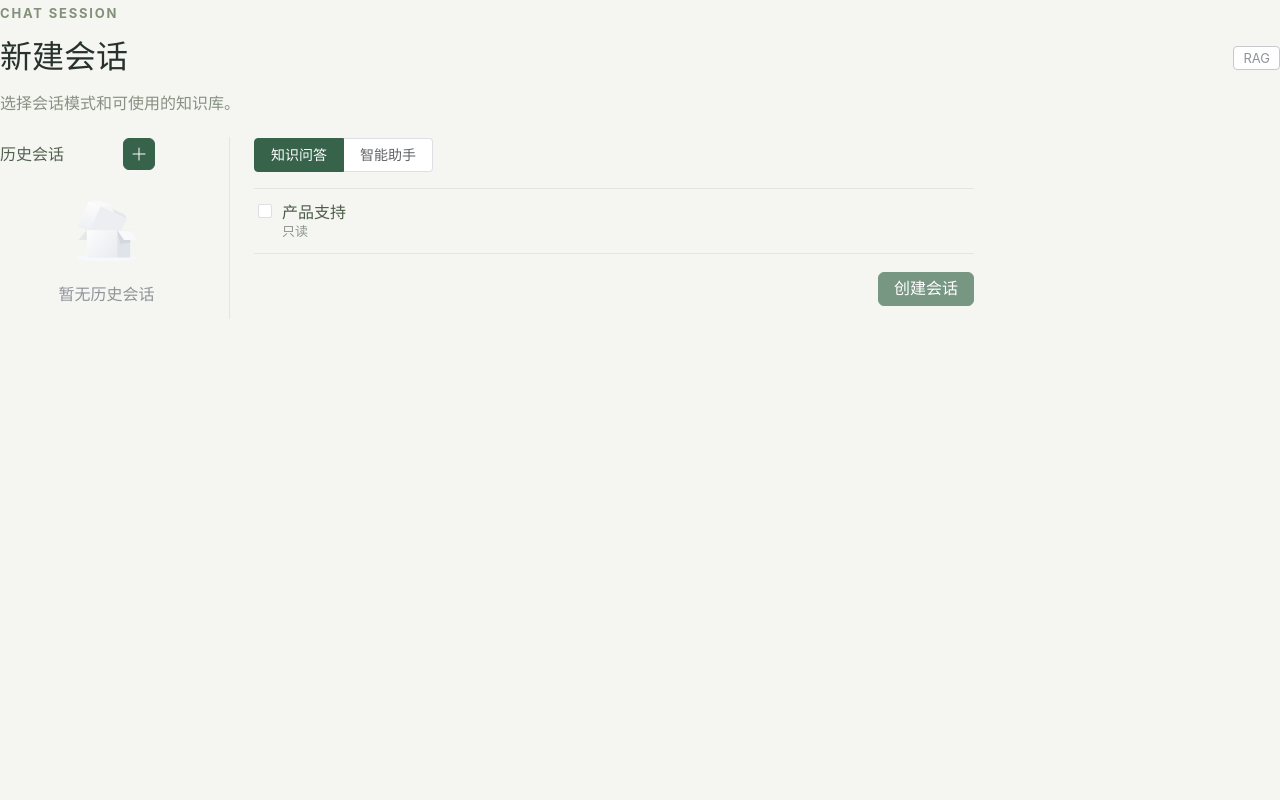
Test case: 会话创建页面 › 正文重复引用 [1][1] 时仅显示一个已登记来源入口，点击只请求该分块一次
This screenshot has width=1280, height=800.
Step 1. Click the checkbox labelled "产品支持 只读" → (314, 212), box 254,189 -> 974,254
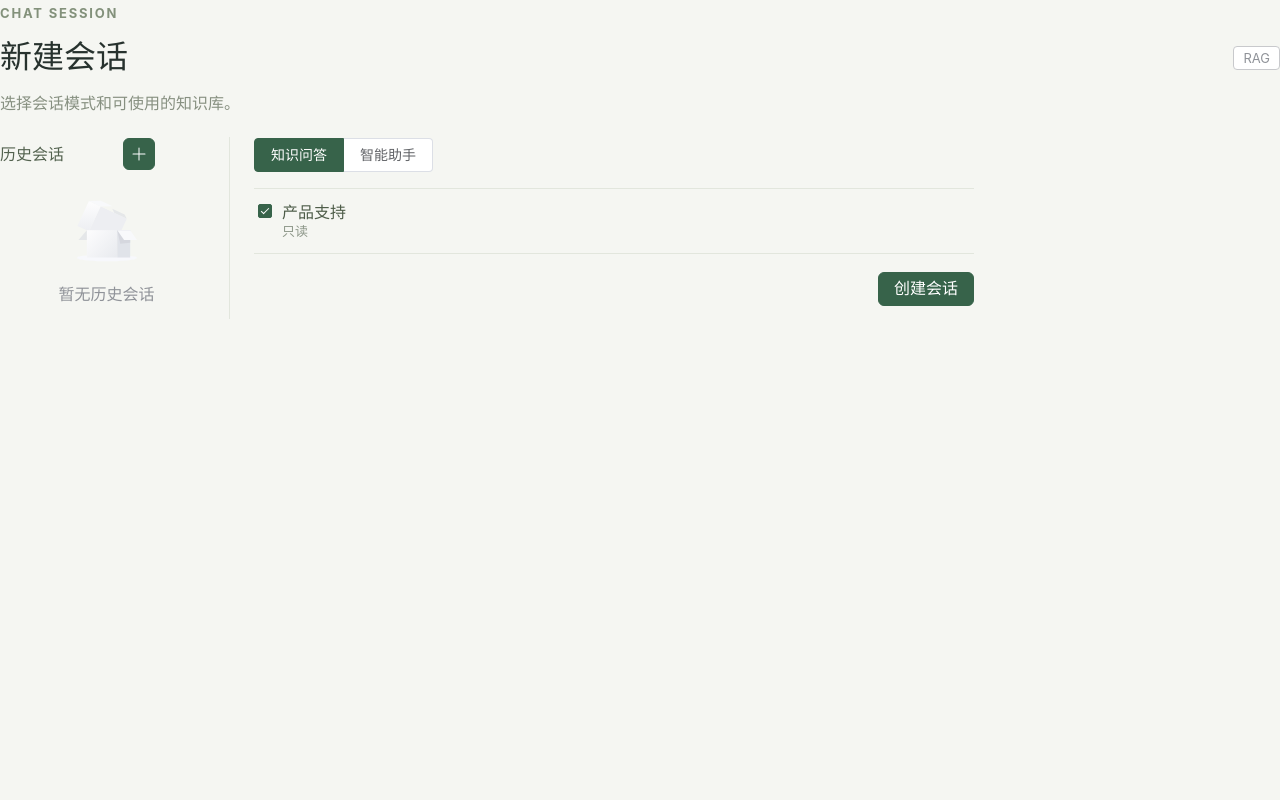
Step 2. Submit the form with class "chat-session-form", box 254,137 -> 974,306
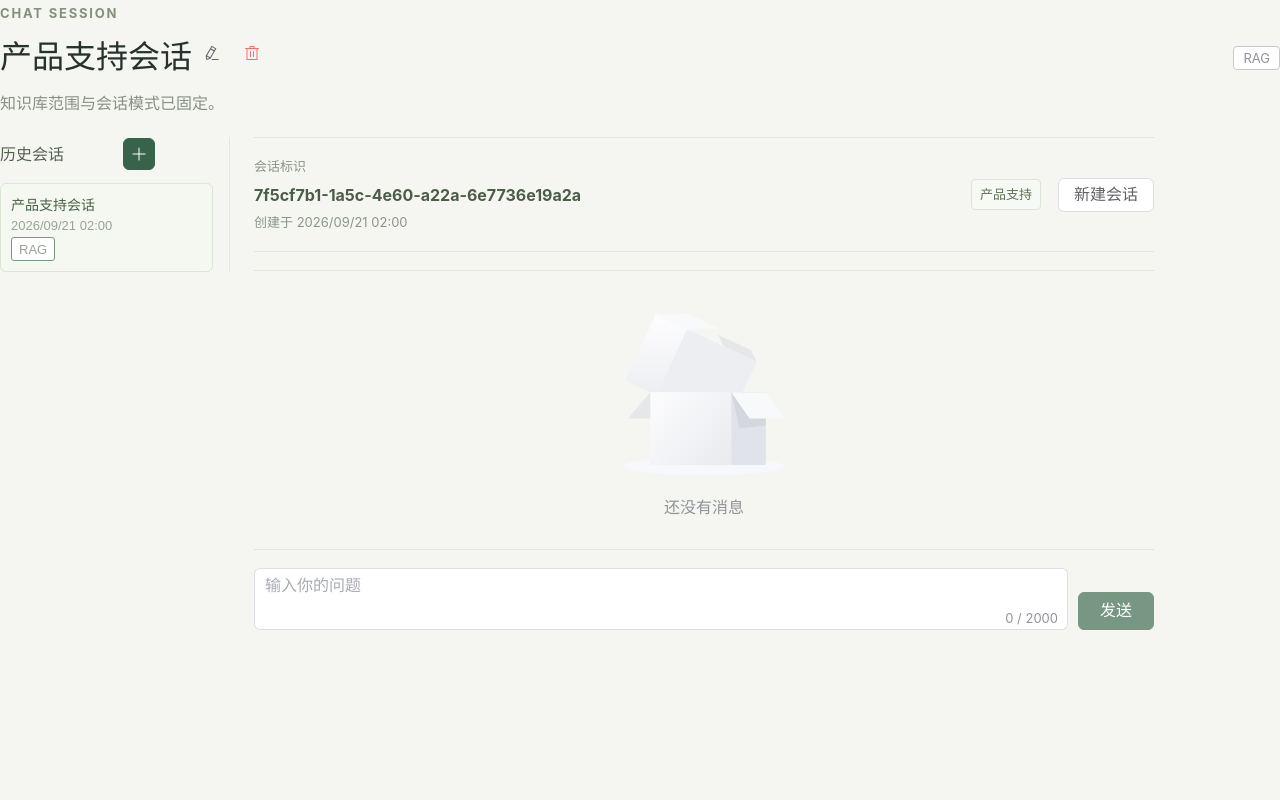
Step 3. Type "支付状态如何排查？" into the text box with placeholder "输入你的问题" → (661, 599), box 254,568 -> 1068,630
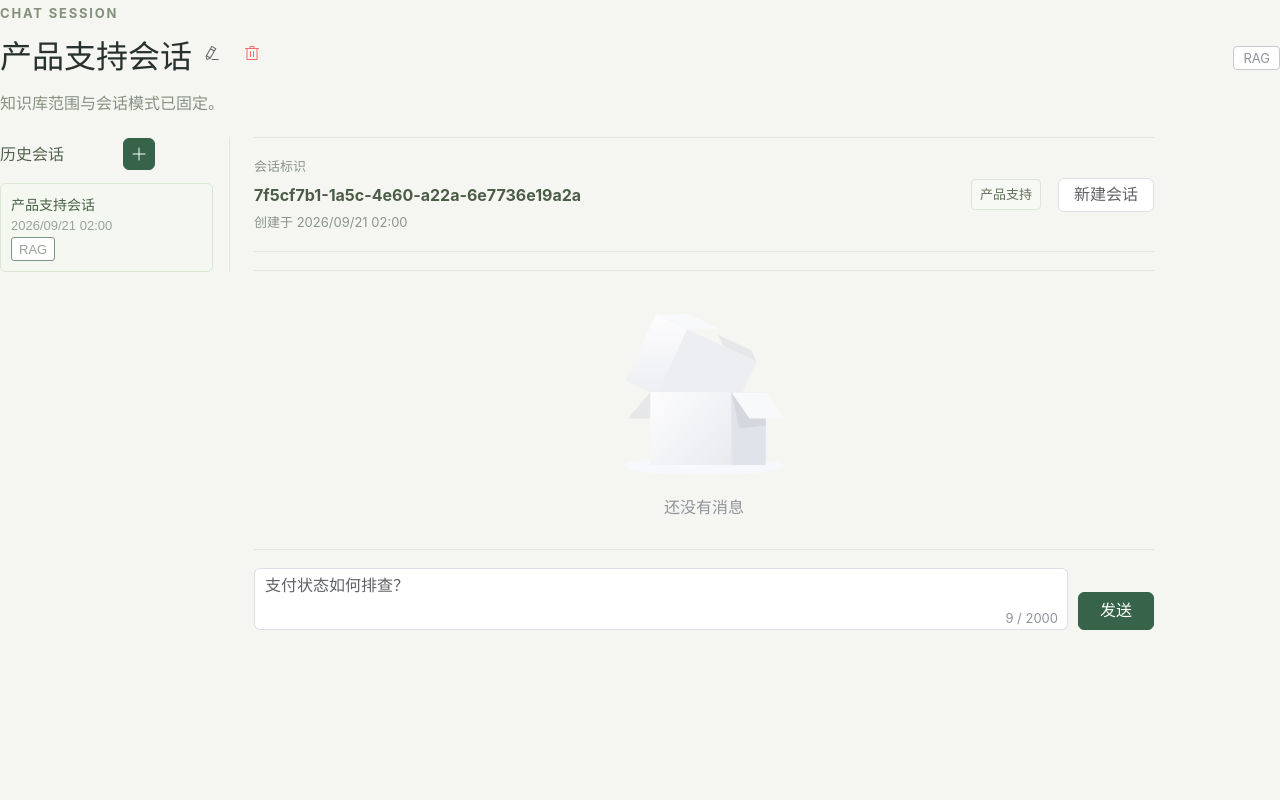
Step 4. Submit the form with class "chat-composer", box 254,568 -> 1154,630
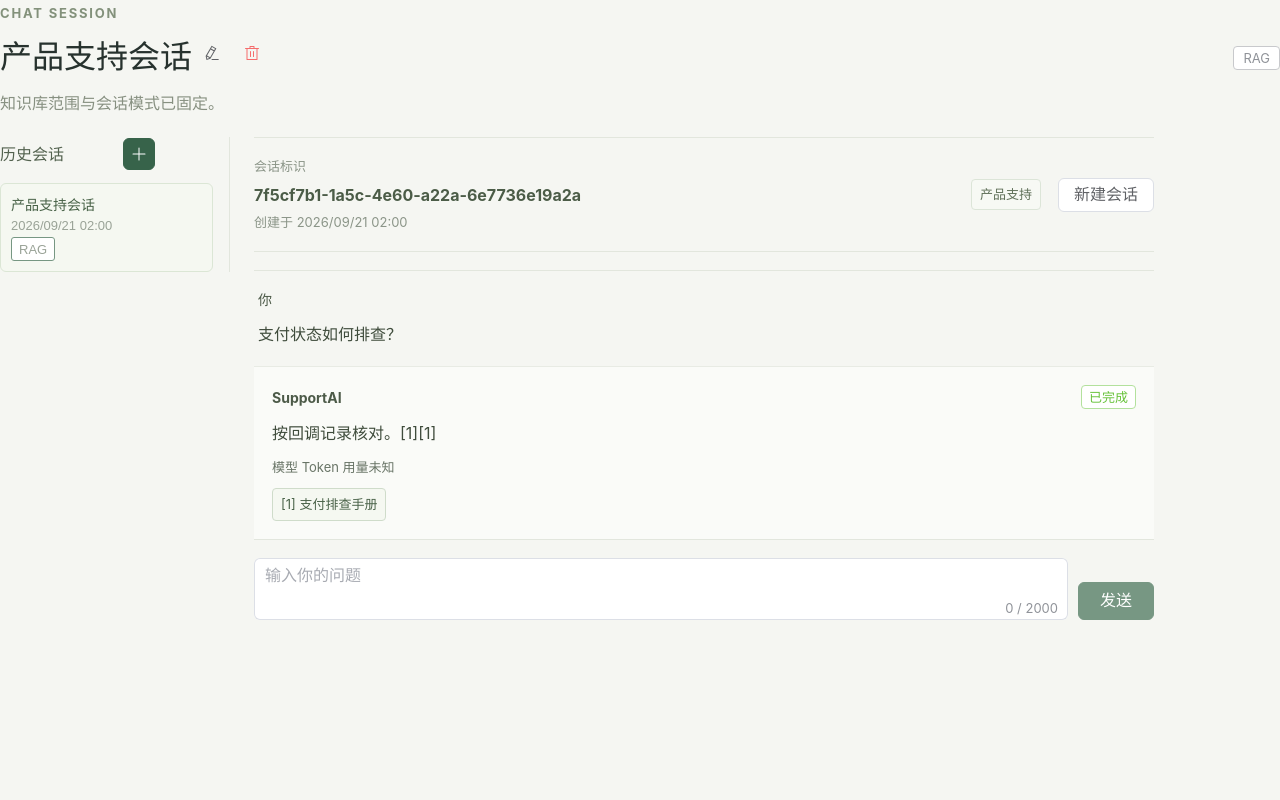
expect the text with class "chat-message-content" reads "按回调记录核对。[1][1]": met, box 272,423 -> 436,443
expect the number of buttons with class "chat-source-button" is 1: met
expect the button with class "chat-source-button" reads "[1] 支付排查手册": met
Step 5. Click the button with class "chat-source-button" → (329, 505), box 272,488 -> 386,522
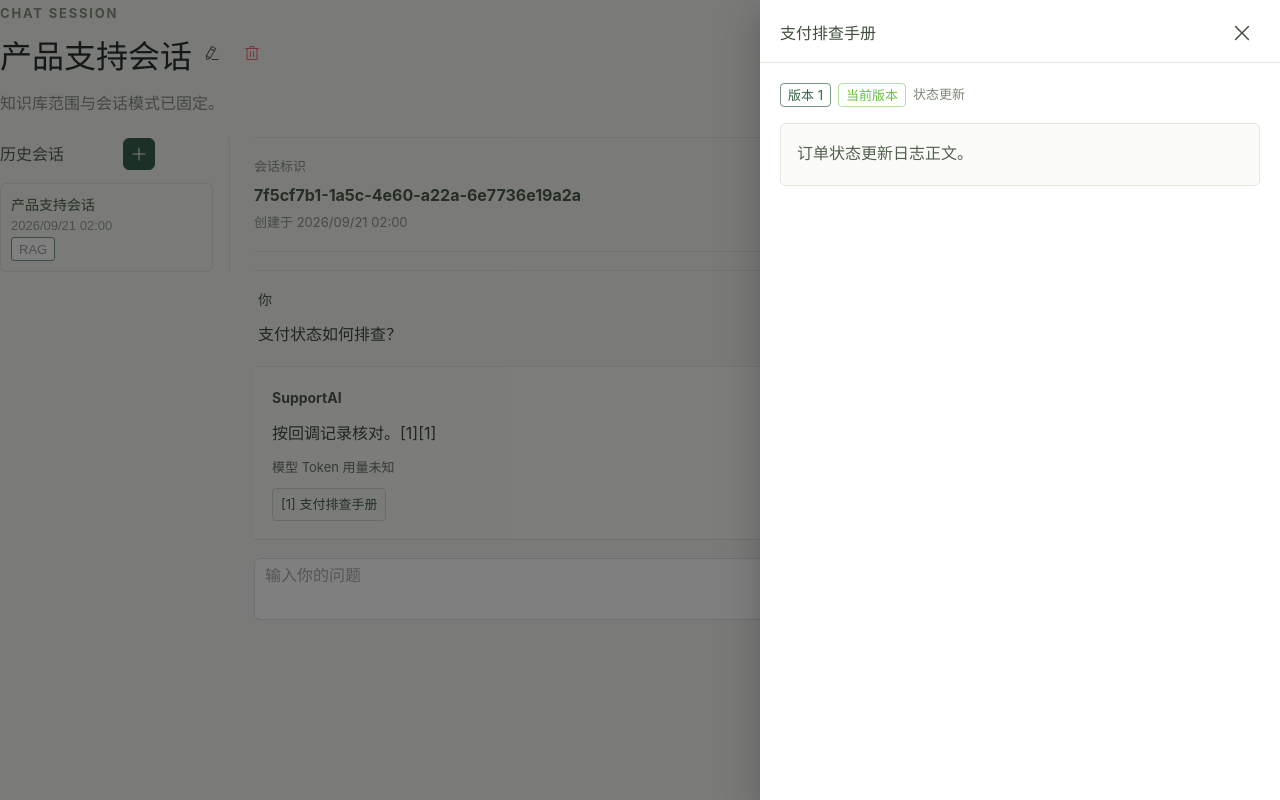
expect the number of buttons with class "chat-source-button" is 1: met, box 272,488 -> 386,522
expect the text with class "chat-source-content" reads "订单状态更新日志正文。": met, box 797,144 -> 973,163
